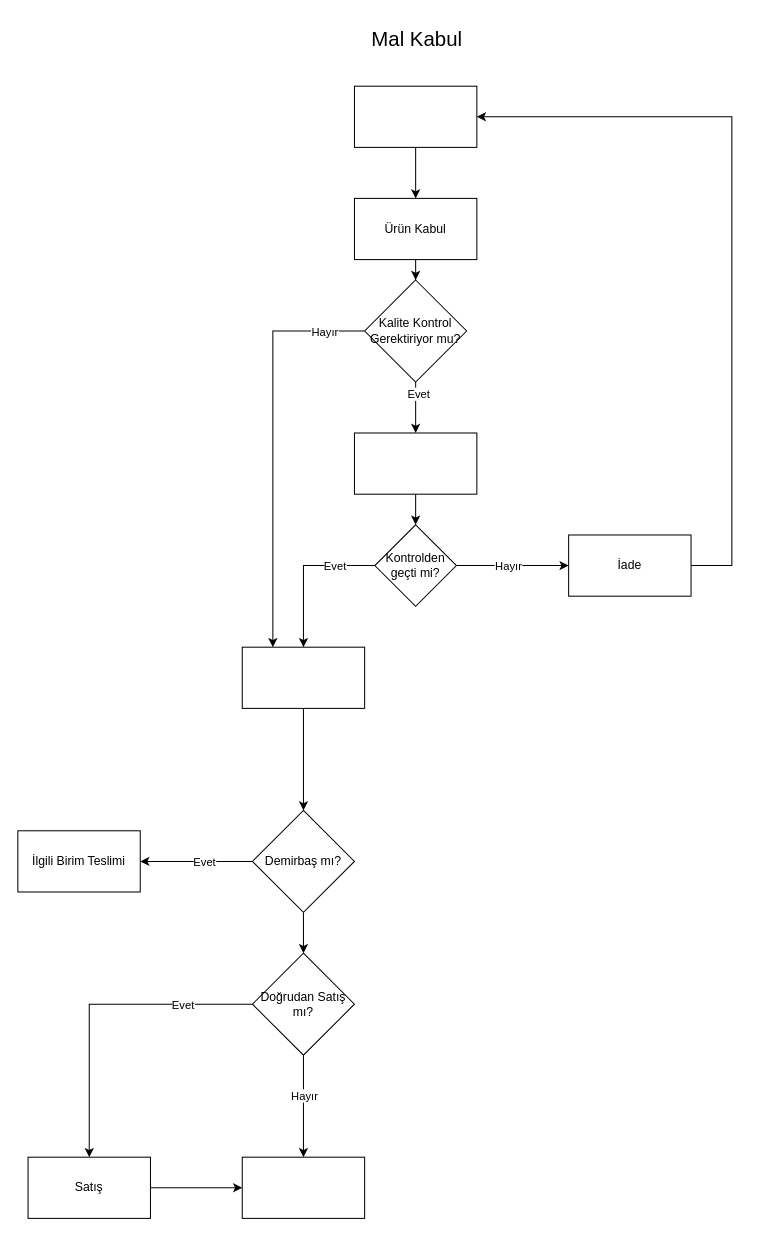
Image size: 758x1236. Some labels were removed from this diagram. Each missing label, with the centre of its shape:
Depo Girişi: (303,677)
Kalite Kontrol: (415,463)
Satın Alma: (415,116)
Üretim: (303,1187)
